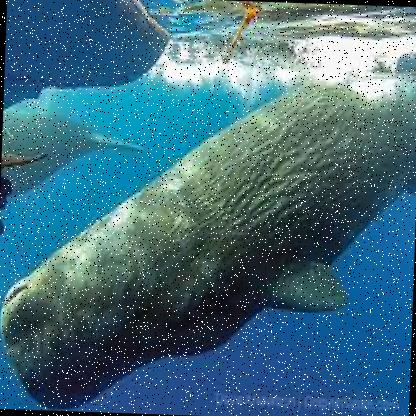sperm_whale: (0, 61, 408, 385)
